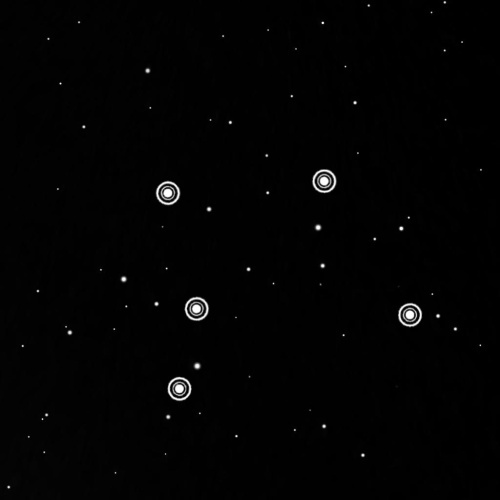libra: (144, 160, 427, 407)
